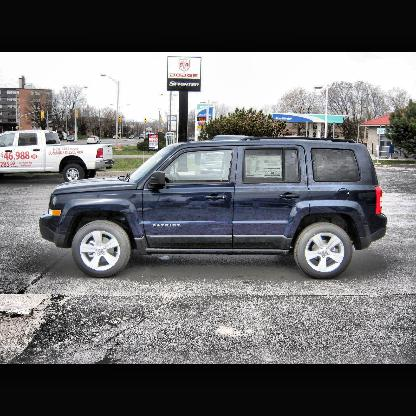Jeep Patriot SUV 2012: (40, 137, 390, 281)
